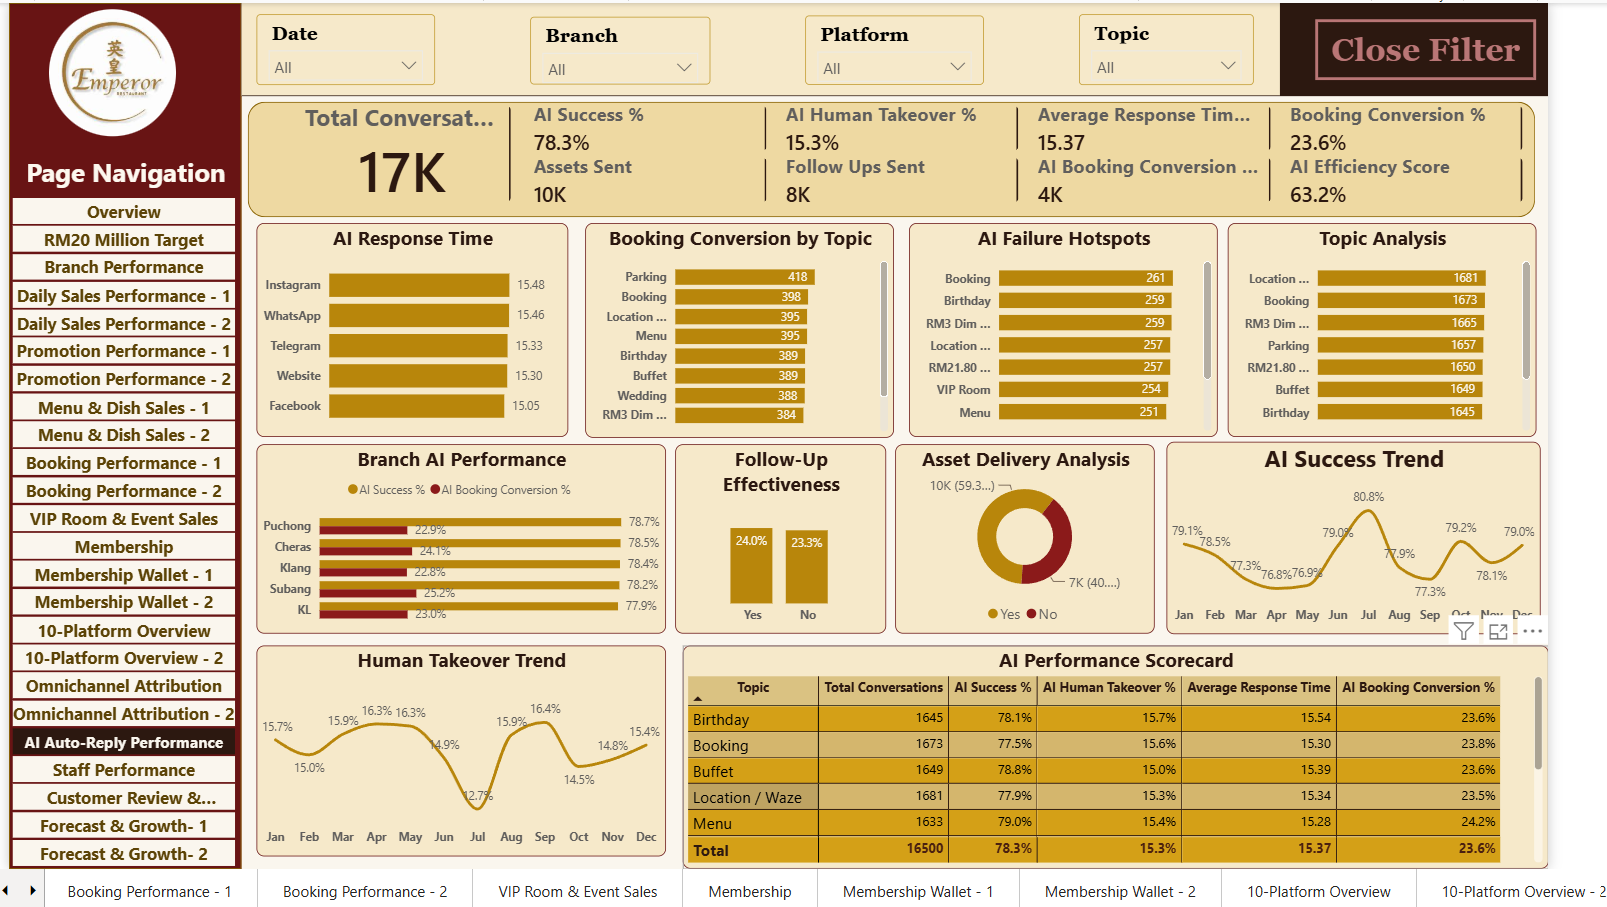

The page's visual inventory and layout, read from the dashboard file:
{"tool":"powerbi","page":{"name":"AI Auto-Reply Performance","canvas":[1600,900],"ordinal":19},"visuals":[{"type":"lineChart","title":"AI Success Trend","fields":{"Category":["Dim_Date.MonthShort"],"Y":["__DAX_Measures.AI Success %"]},"box":[1203.2,455.6,388.9,200],"z":0},{"type":"lineChart","title":"Human Takeover Trend","fields":{"Category":["Dim_Date.MonthShort"],"Y":["__DAX_Measures.AI Human Takeover %"]},"box":[257.1,668.3,425.4,219],"z":1000},{"type":"clusteredBarChart","title":"Topic Analysis","fields":{"Category":["Fact_AIReplyLog.Topic"],"Y":["__DAX_Measures.Total Conversations"]},"box":[1266.7,228.6,320.6,222.2],"z":2000},{"type":"clusteredBarChart","title":"AI Failure Hotspots","fields":{"Category":["Fact_AIReplyLog.Topic"],"Y":["__DAX_Measures.AI Human Takeover Count"]},"box":[934.9,228.6,320.6,222.2],"z":3000},{"type":"clusteredBarChart","title":"Booking Conversion by Topic","fields":{"Category":["Fact_AIReplyLog.Topic"],"Y":["__DAX_Measures.AI Booking Conversion Count"]},"box":[598.4,228.6,321,223],"z":4000},{"type":"clusteredBarChart","title":"AI Response Time","fields":{"Category":["Dim_Platform.PlatformName"],"Y":["__DAX_Measures.Average Response Time"]},"box":[257.1,228.6,323.8,222.2],"z":5000},{"type":"donutChart","title":"Asset Delivery Analysis","fields":{"Category":["Fact_AIReplyLog.AssetSent"],"Y":["__DAX_Measures.Total Conversations"]},"box":[920.6,458.7,269.8,196.8],"z":6000},{"type":"clusteredColumnChart","title":"Follow-Up Effectiveness","fields":{"Category":["Fact_AIReplyLog.FollowUpSent"],"Y":["__DAX_Measures.AI Booking Conversion %"]},"box":[692.1,458.7,219,196.8],"z":7000},{"type":"clusteredBarChart","title":"Branch AI Performance","fields":{"Category":["Dim_Branch.BranchName"],"Y":["__DAX_Measures.AI Success %","__DAX_Measures.AI Booking Conversion %"]},"box":[257.1,458.7,425.4,196.8],"z":8000},{"type":"pivotTable","title":"AI Performance Scorecard","fields":{"Rows":["Fact_AIReplyLog.Topic"],"Values":["__DAX_Measures.Total Conversations","__DAX_Measures.AI Success %","__DAX_Measures.AI Human Takeover %","__DAX_Measures.Average Response Time","__DAX_Measures.AI Booking Conversion %"]},"box":[700,668.3,900,231.7],"z":9000},{"type":"shape","box":[0,0,241.6,900.2],"z":10000},{"type":"shape","box":[248.7,102.9,1337.9,120.1],"z":11000},{"type":"cardVisual","fields":{"Data":["__DAX_Measures.AI Success %","__DAX_Measures.Human Takeover %","__DAX_Measures.Average Response Time","__DAX_Measures.Booking Conversion%","__DAX_Measures.Assets Sent","__DAX_Measures.Follow Ups Sent","__DAX_Measures.Booking Conversion Count","__DAX_Measures.AI Efficiency Score"]},"box":[521.8,95.9,1065.4,122.1],"z":12000},{"type":"cardVisual","fields":{"Data":["__DAX_Measures.Total Conversations"]},"box":[284.7,96.1,248.7,121.8],"z":13000},{"type":"textbox","box":[241.3,0,1359,97],"z":14000},{"type":"shape","box":[241.9,0,1078.9,96.1],"z":15000},{"type":"actionButton","title":"Close Filter","box":[1357.5,16.3,229.6,63.3],"z":16000},{"type":"slicer","fields":{"Values":["Dim_Date.Date"]},"box":[257.3,12.2,185.2,73.8],"z":18000},{"type":"slicer","fields":{"Values":["Dim_Branch.BranchName"]},"box":[541.5,13.9,187,70.3],"z":19000},{"type":"slicer","fields":{"Values":["Dim_Platform.PlatformName"]},"box":[827.3,13.1,185.2,72],"z":20000},{"type":"slicer","fields":{"Values":["Fact_AIReplyLog.Topic"]},"box":[1111.5,12.2,181.8,73.8],"z":21000},{"type":"image","box":[41.9,6.2,131.9,131.9],"z":22000},{"type":"pageNavigator","box":[4.4,202.3,231.1,697.7],"z":23000},{"type":"textbox","box":[0,152.6,242.7,46.5],"z":24000}]}

Visuals, with their boxes on the page's 1600x900 design canvas (x1, y1, x2, y2). These are canvas units, not pixel positions in the 1607x907 screenshot, which may show the page scaled, cropped or inside an application window:
"AI Success Trend" lineChart: (1203,456,1592,656)
"Human Takeover Trend" lineChart: (257,668,682,887)
"Topic Analysis" clusteredBarChart: (1267,229,1587,451)
"AI Failure Hotspots" clusteredBarChart: (935,229,1256,451)
"Booking Conversion by Topic" clusteredBarChart: (598,229,919,452)
"AI Response Time" clusteredBarChart: (257,229,581,451)
"Asset Delivery Analysis" donutChart: (921,459,1190,656)
"Follow-Up Effectiveness" clusteredColumnChart: (692,459,911,656)
"Branch AI Performance" clusteredBarChart: (257,459,682,656)
"AI Performance Scorecard" pivotTable: (700,668,1600,900)
shape: (0,0,242,900)
shape: (249,103,1587,223)
cardVisual - __DAX_Measures.AI Success % x __DAX_Measures.Human Takeover %: (522,96,1587,218)
cardVisual - __DAX_Measures.Total Conversations: (285,96,533,218)
textbox: (241,0,1600,97)
shape: (242,0,1321,96)
"Close Filter" actionButton: (1358,16,1587,80)
slicer - Dim_Date.Date: (257,12,442,86)
slicer - Dim_Branch.BranchName: (542,14,728,84)
slicer - Dim_Platform.PlatformName: (827,13,1012,85)
slicer - Fact_AIReplyLog.Topic: (1112,12,1293,86)
image: (42,6,174,138)
pageNavigator: (4,202,236,900)
textbox: (0,153,243,199)
